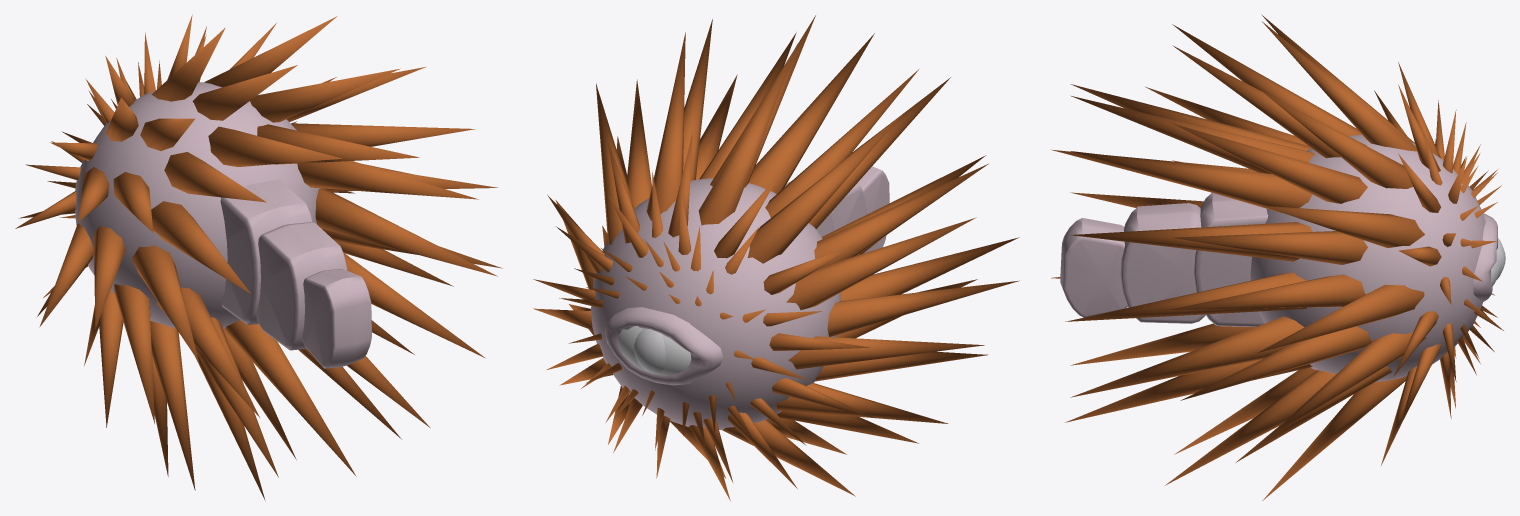
The model's file is SeaUrchinModel.fbx.
The picture shows the model from 3 angles, left to right: view 1: azimuth 30°, elevation 25°; view 2: azimuth 150°, elevation 25°; view 3: azimuth 270°, elevation 25°; orthographic projection.
Parts seen in each view (by area): view 1: pCone39 (×12), pSphere1, pCone40 (×10), pCylinder2, pCylinder1, pCylinder3, pCone77, pCone74, pCone78, pCone80, pCone70, pCone71 (+7 smaller); view 2: pSphere1, pCone40 (×8), pCone39 (×9), pCone41 (×10), pTorus1, pCone80, pCone71, pCone69, pCone79, pSphere2, pCone78, pCylinder3 (+5 smaller); view 3: pCone39 (×9), pCone40 (×8), pSphere1, pCylinder2, pCylinder3, pCone41 (×7), pCone79, pCone76, pCylinder1, pCone78, pCone77, pCone80 (+6 smaller).
Boxes of the visible parts, left/top/right/bottom form: pCone39 (×12): left=94, top=65, right=502, bottom=500; pSphere1: left=75, top=82, right=320, bottom=329; pCone40 (×10): left=39, top=16, right=453, bottom=476; pCylinder2: left=256, top=222, right=347, bottom=350; pCylinder1: left=220, top=179, right=312, bottom=324; pCylinder3: left=302, top=269, right=371, bottom=368; pCone77: left=315, top=188, right=497, bottom=276; pCone74: left=224, top=320, right=356, bottom=476; pCone78: left=297, top=161, right=478, bottom=199; pCone80: left=208, top=126, right=341, bottom=166; pCone70: left=151, top=201, right=250, bottom=293; pCone71: left=131, top=245, right=198, bottom=361; pSphere1: left=591, top=178, right=840, bottom=429; pCone40 (×8): left=596, top=32, right=984, bottom=496; pCone39 (×9): left=626, top=15, right=1019, bottom=454; pCone41 (×10): left=533, top=132, right=873, bottom=501; pTorus1: left=604, top=307, right=723, bottom=385; pCone80: left=748, top=33, right=874, bottom=193; pCone71: left=840, top=237, right=1019, bottom=301; pCone69: left=809, top=77, right=950, bottom=228; pCone79: left=699, top=32, right=796, bottom=179; pSphere2: left=618, top=326, right=691, bottom=375; pCone78: left=696, top=74, right=737, bottom=179; pCylinder3: left=857, top=166, right=889, bottom=252; pCone39 (×9): left=1145, top=24, right=1371, bottom=485; pCone40 (×8): left=1235, top=14, right=1426, bottom=500; pSphere1: left=1250, top=134, right=1485, bottom=381; pCylinder2: left=1120, top=203, right=1205, bottom=323; pCylinder3: left=1060, top=218, right=1127, bottom=317; pCone41 (×7): left=1381, top=62, right=1441, bottom=465; pCone79: left=1070, top=151, right=1312, bottom=212; pCone76: left=1070, top=316, right=1304, bottom=397; pCylinder1: left=1194, top=192, right=1268, bottom=326; pCone78: left=1070, top=222, right=1312, bottom=261; pCone77: left=1065, top=272, right=1306, bottom=321; pCone80: left=1070, top=95, right=1315, bottom=173.
Size of the model in its own units: 5.27 by 5.28 by 4.88.
